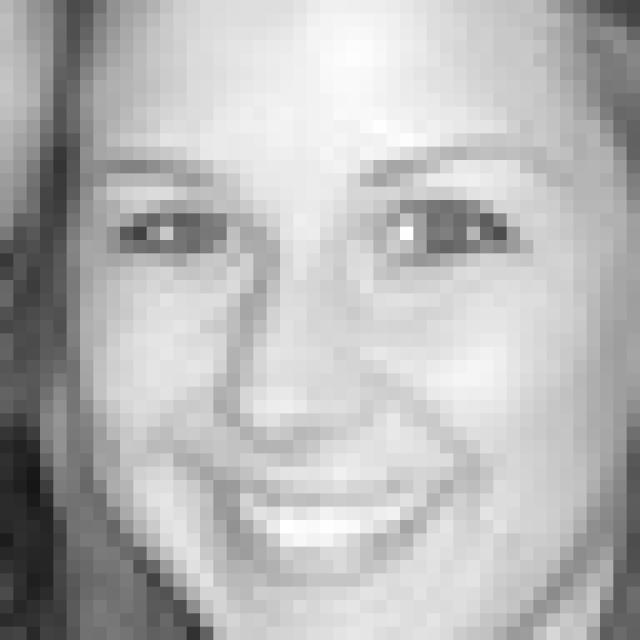happy: (84, 132, 587, 594)
